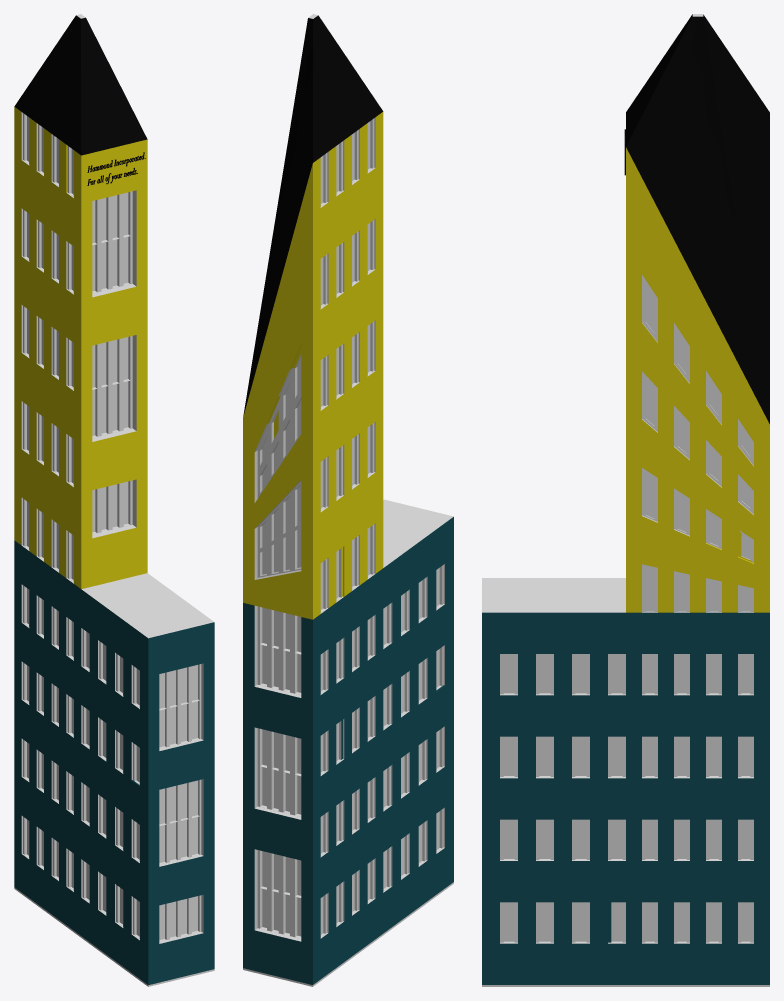
Rendered from hammond_inc_HQ.fbx.
The picture shows the model from 3 angles, left to right: view 1: azimuth 30°, elevation 25°; view 2: azimuth 150°, elevation 25°; view 3: azimuth 270°, elevation 25°; orthographic projection. The views are drawn at different scales.
Visible parts, largest first — view 1: Cube, Text; view 2: Cube; view 3: Cube.
Boxes of the visible parts, x1,y1,x2,y2 form: Cube: [14, 14, 214, 986]; Text: [87, 152, 145, 185]; Cube: [243, 14, 453, 986]; Cube: [482, 14, 769, 986].
Size of the model in its own units: 80 by 1025 by 280.
